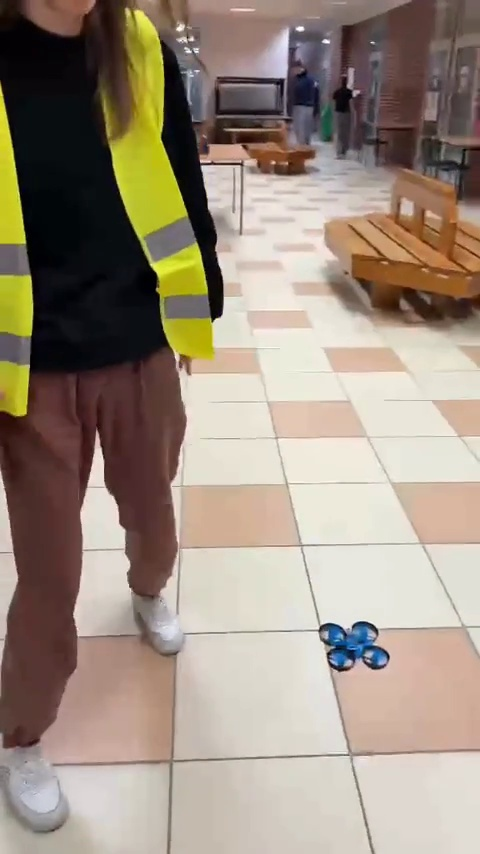drone: (316, 619, 387, 670)
no vest: (329, 72, 362, 162), (286, 64, 319, 150)
vest: (2, 0, 206, 806)
